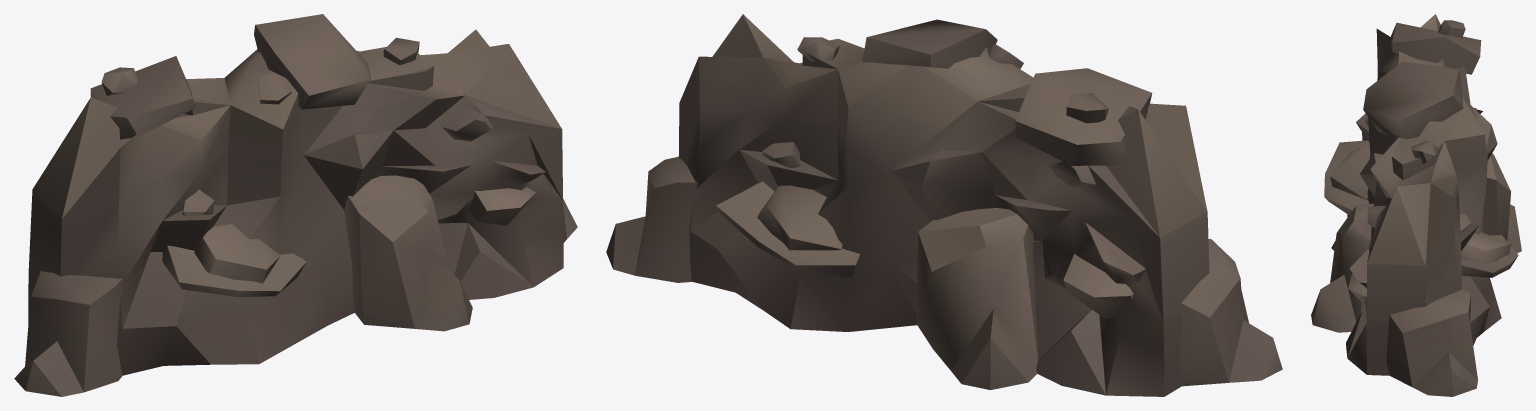
File: rubble_large.gltf.glb
3 renders of one model, left to right at view 1: azimuth 30°, elevation 25°; view 2: azimuth 150°, elevation 25°; view 3: azimuth 270°, elevation 25°, orthographic. The views are drawn at different scales.
Visible parts, largest first — view 1: rubble_large; view 2: rubble_large; view 3: rubble_large.
Part boxes in pixels (bbox=[...]): rubble_large: bbox=[14, 14, 577, 396]; rubble_large: bbox=[606, 14, 1282, 396]; rubble_large: bbox=[1311, 14, 1521, 396].
Size of the model in its own units: 8.13 by 3.5 by 3.18.
1 material, 1 textured.
